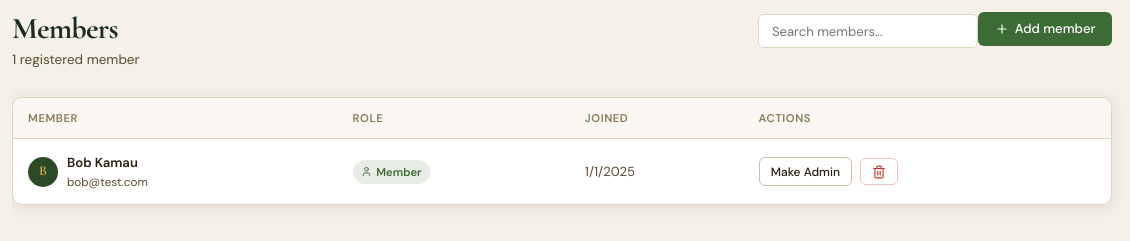
Test: MembersPage — admin view › search filters members
Expected: the text "Bob Kamau" is shown, [67, 152, 148, 173]
In the field with test id "member-search": (868, 31) [758, 14, 978, 48], type "nobody"
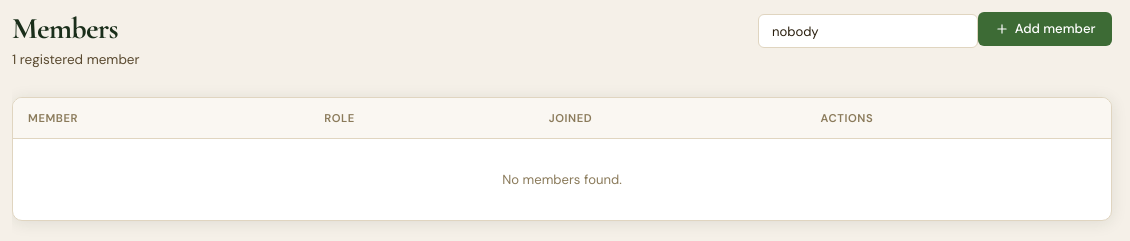
Result: the text "No members found." is shown at [13, 139, 1111, 220]
